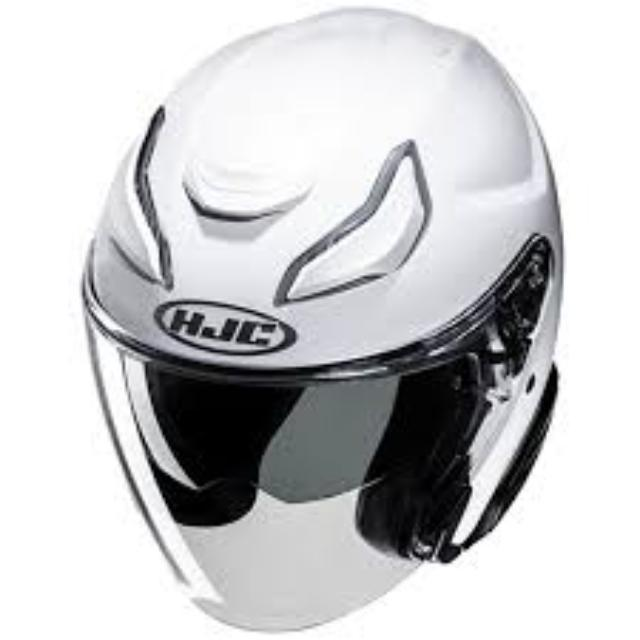motorcycle-helmets: (82, 9, 560, 623)
